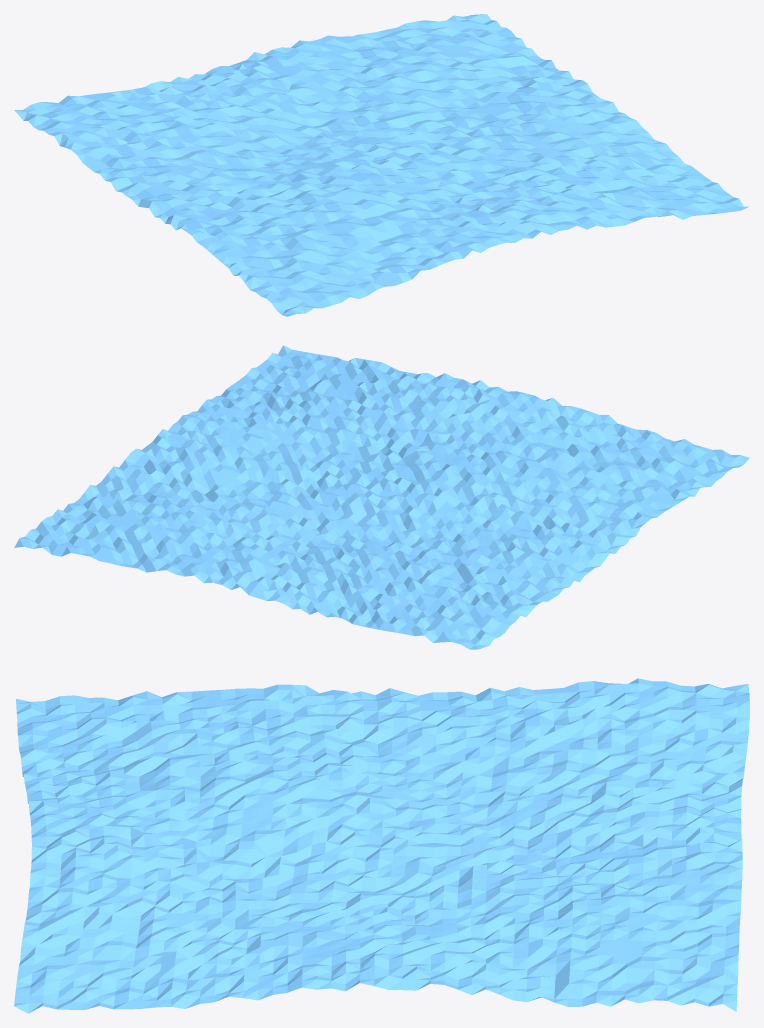
The model's file is Sea animation.fbx.
The picture shows the model from 3 angles, top to bottom: view 1: azimuth 30°, elevation 25°; view 2: azimuth 150°, elevation 25°; view 3: azimuth 270°, elevation 25°; orthographic projection. The views are drawn at different scales.
Parts seen in each view (by area): view 1: Plane; view 2: Plane; view 3: Plane.
Part boxes in pixels (bbox=[...]): Plane: bbox=[14, 14, 749, 316]; Plane: bbox=[14, 345, 749, 649]; Plane: bbox=[14, 678, 749, 1013].
Size of the model in its own units: 4715 by 263 by 4769.
